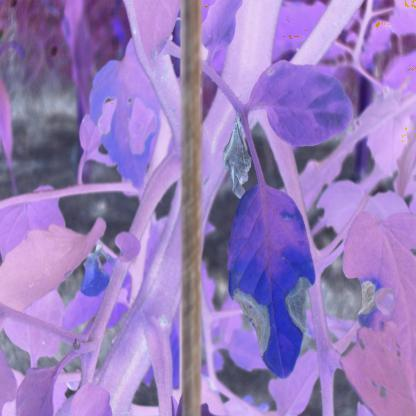Tomato Early blight leaf: (225, 180, 312, 378)
